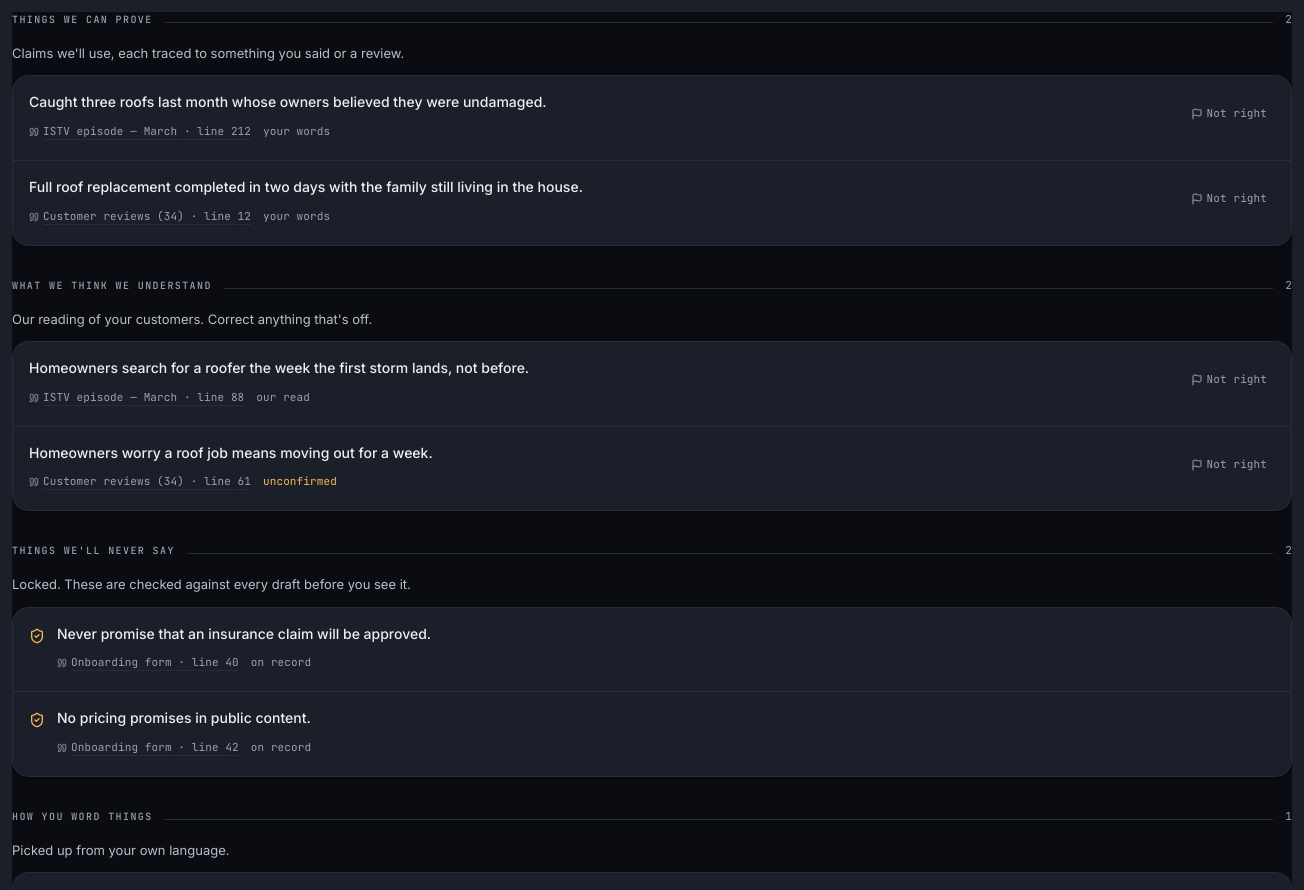
Test: the profile is legible, and read-only › lets a client dispute a fact but never curate one
The image size is (1304, 890).
Click the 1st button "Not right": (1229, 114) [1183,92,1275,136]
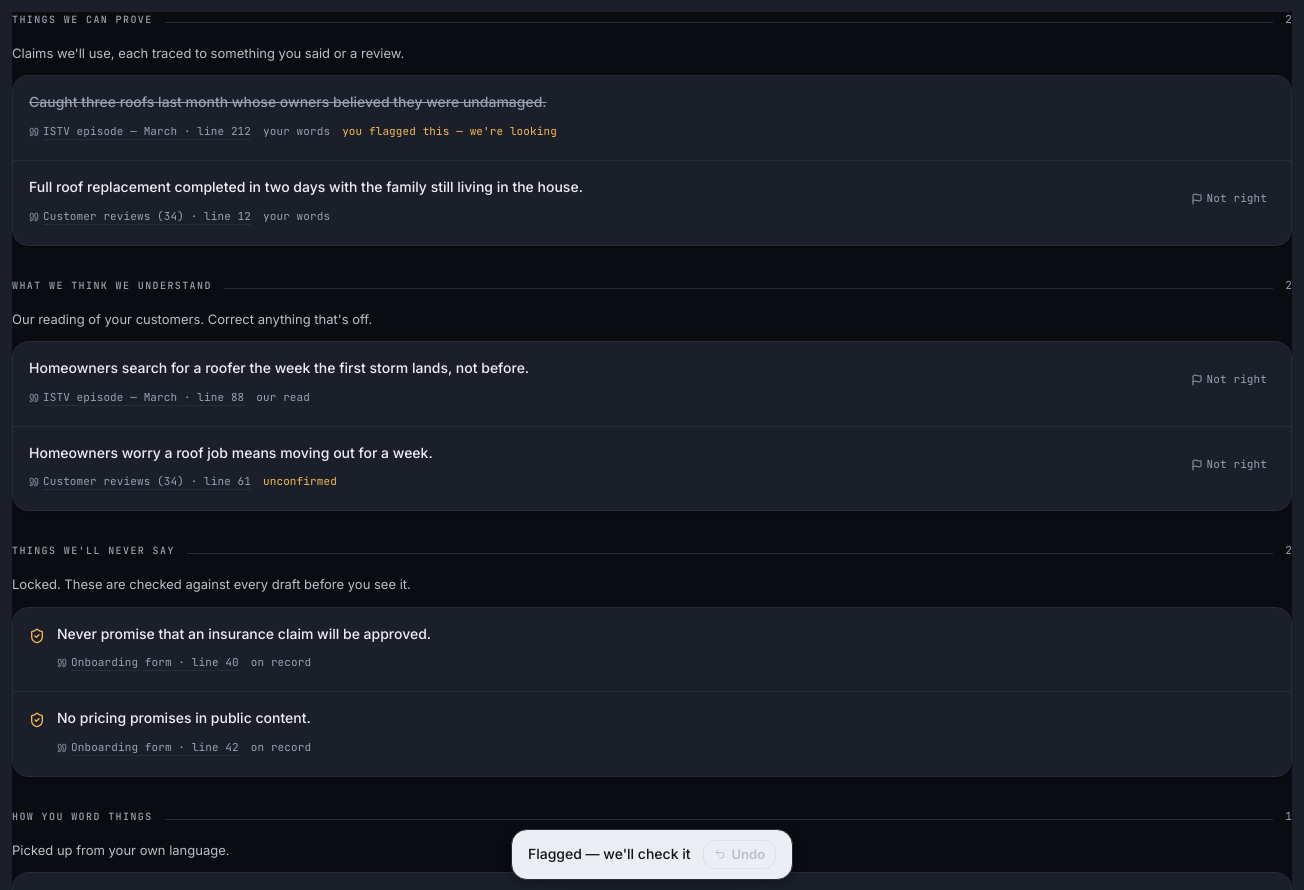
Now the text "you flagged this — we're looking" is shown, box [342,124,557,140]
